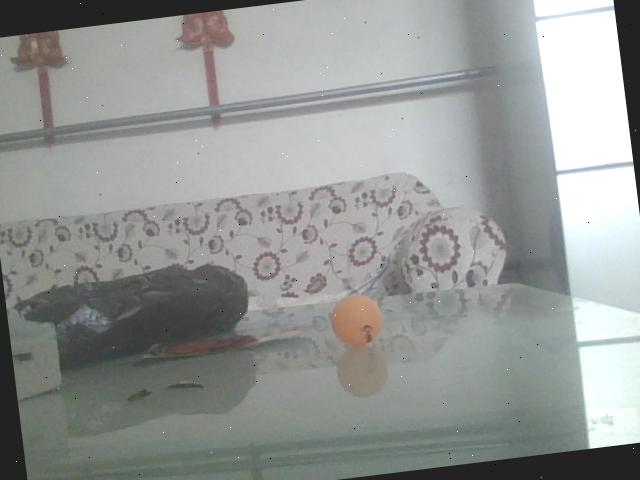ball: (330, 292, 384, 348)
